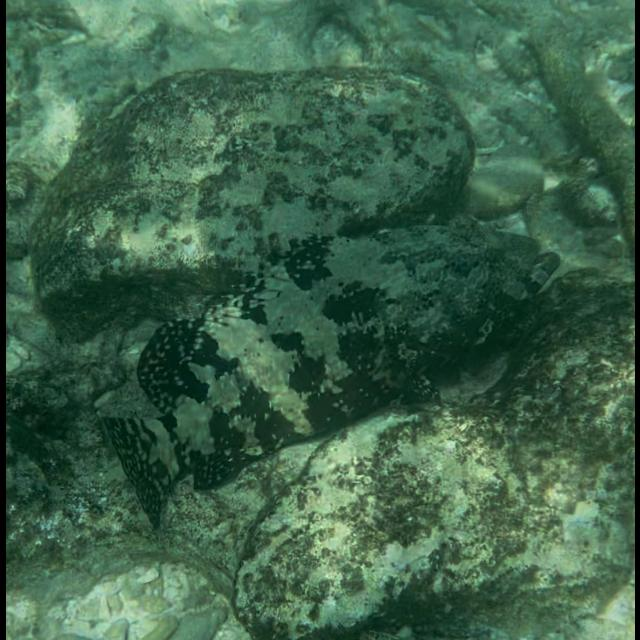Groupers: (101, 222, 563, 526)
